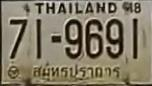1: (36, 18, 42, 58), (132, 18, 137, 58)
6: (85, 18, 102, 58)
7: (9, 18, 27, 58)
9: (105, 18, 123, 58), (64, 18, 82, 58)
SPK: (30, 61, 122, 81)
